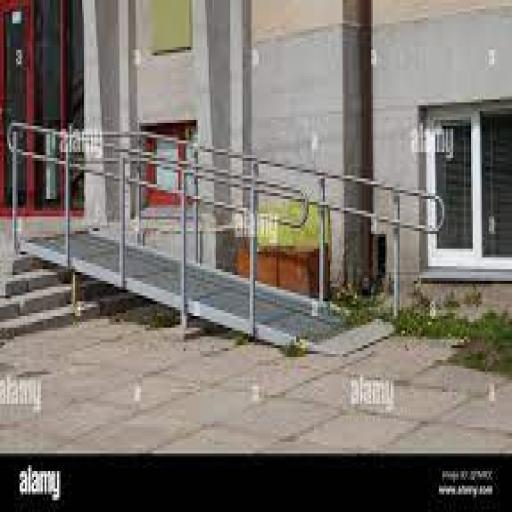ramp: (20, 230, 392, 367)
stairs: (0, 256, 64, 335)
